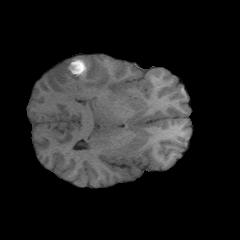glioma: (50, 57, 107, 98)
